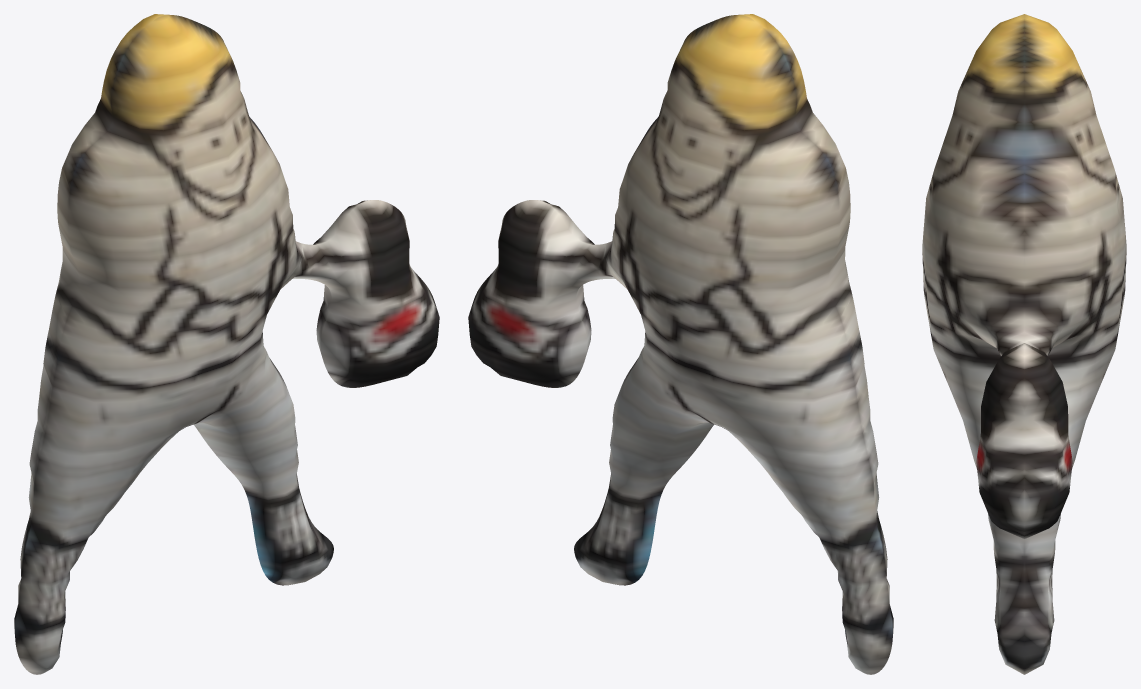
The model's file is humanworker.glb.
3 renders of one model, left to right at view 1: azimuth 30°, elevation 25°; view 2: azimuth 150°, elevation 25°; view 3: azimuth 270°, elevation 25°, orthographic.
Visible parts, largest first — view 1: Mesh_0.006; view 2: Mesh_0.006; view 3: Mesh_0.006.
Boxes of the visible parts, box(x1,y1,x2,y2) form: Mesh_0.006: box(14, 14, 439, 674); Mesh_0.006: box(468, 14, 893, 674); Mesh_0.006: box(922, 14, 1126, 674).
Bounding box in the file's own units: 110 × 157 × 47.05.
Materials: 1 (1 with a texture image).
